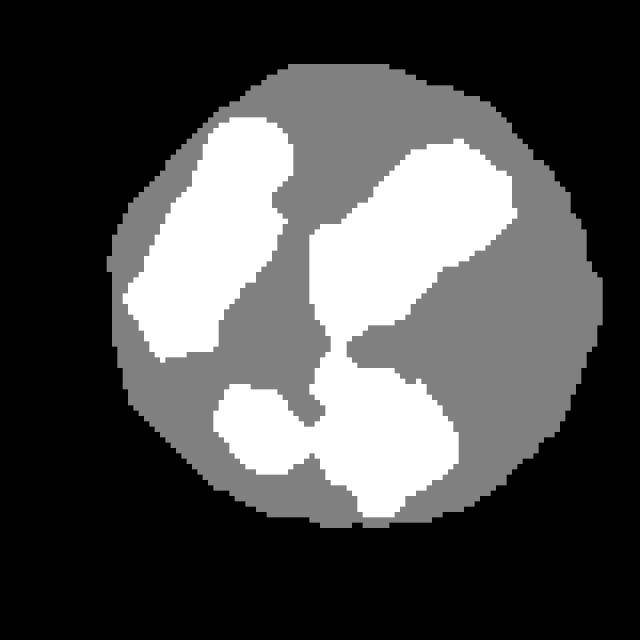WBC: (91, 48, 613, 549)
